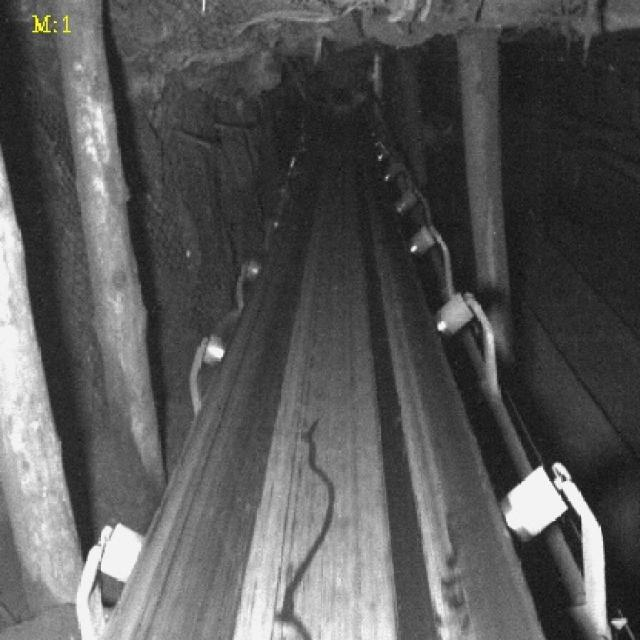bolt: (272, 420, 334, 640)
